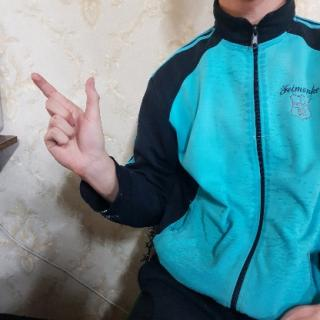NOON: (24, 67, 111, 182)
